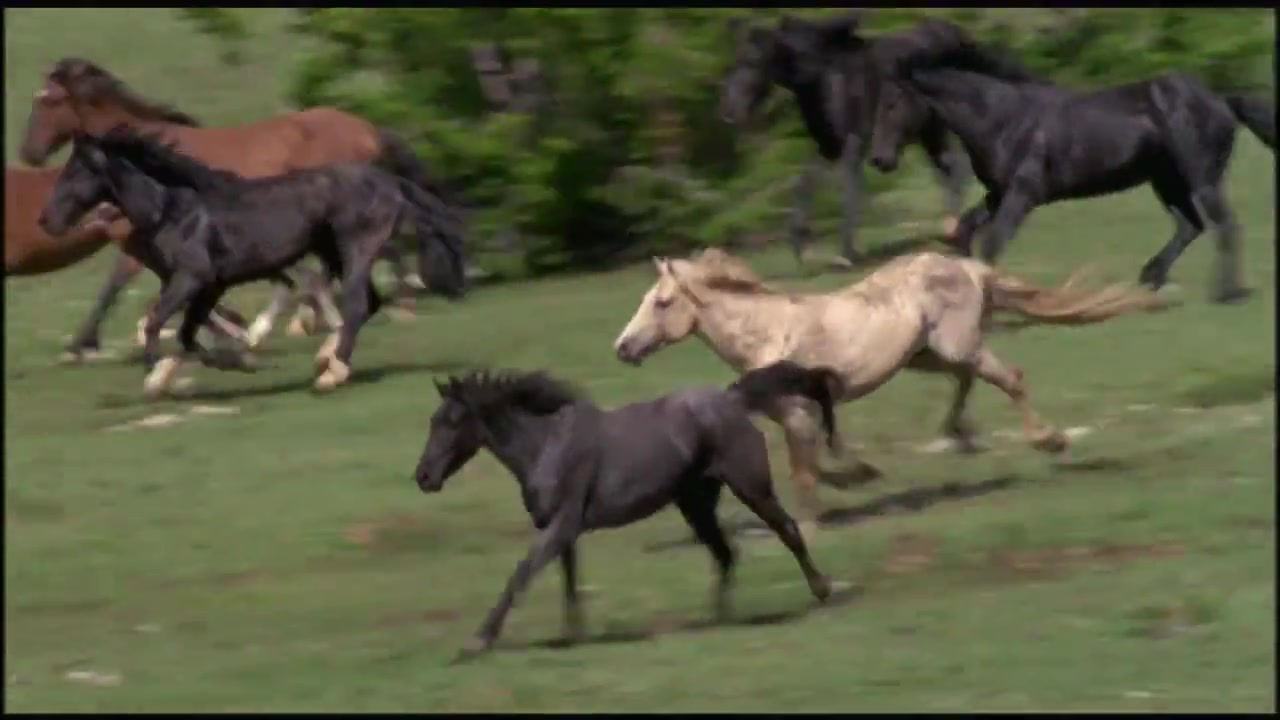horse: (412, 362, 840, 654)
